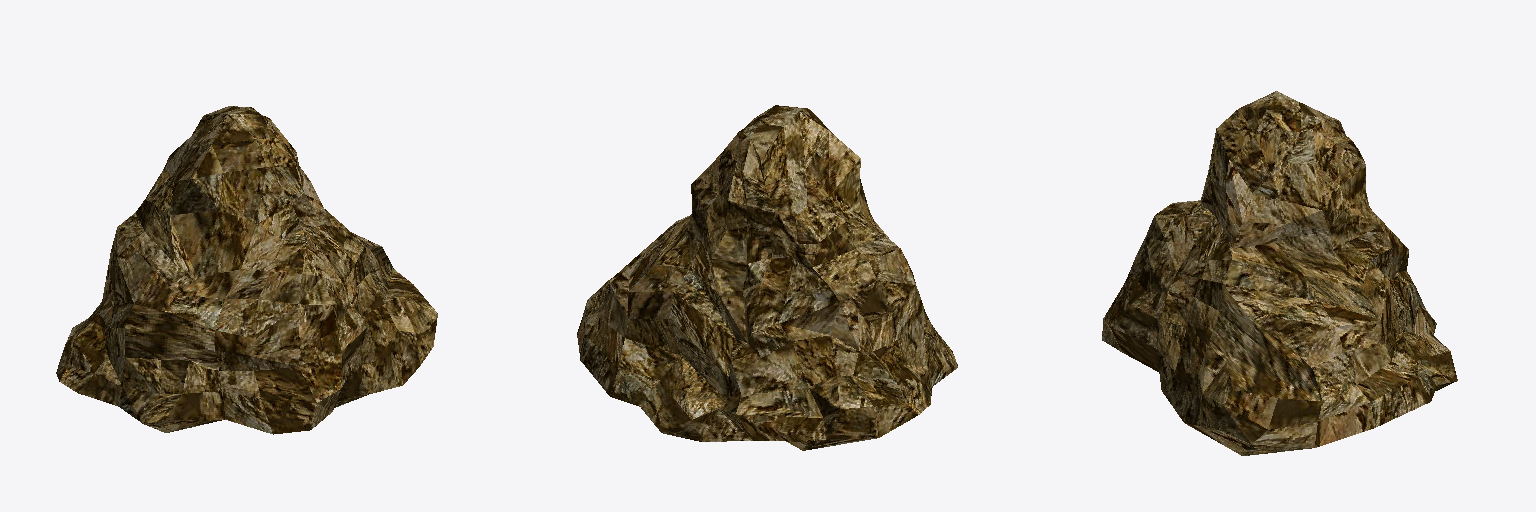
3 renders of one model, left to right at view 1: azimuth 30°, elevation 25°; view 2: azimuth 150°, elevation 25°; view 3: azimuth 270°, elevation 25°, orthographic.
Visible parts, largest first — view 1: Plane; view 2: Plane; view 3: Plane.
Boxes of the visible parts, x1=… form: Plane: x1=56, y1=106, x2=437, y2=434; Plane: x1=577, y1=105, x2=957, y2=450; Plane: x1=1102, y1=91, x2=1457, y2=455.
Bounding box in the file's own units: 3.31 × 2.74 × 2.94.
1 materials, 1 textured.